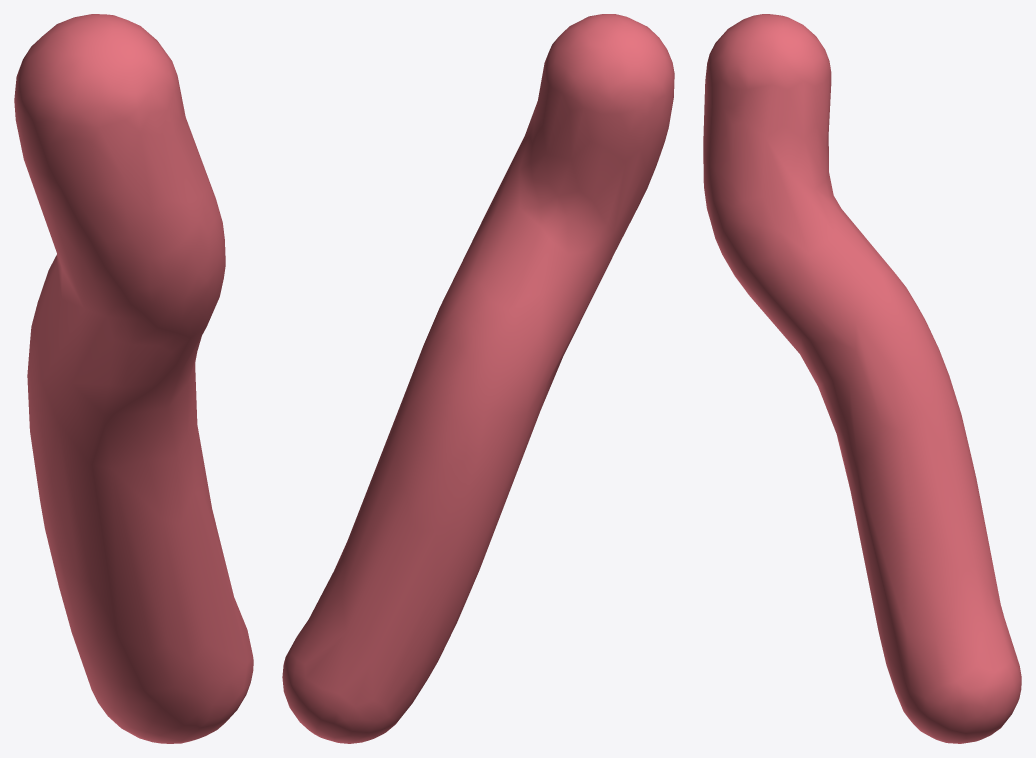
The model's file is fma50369_fj1660.glb.
The picture shows the model from 3 angles, left to right: view 1: azimuth 30°, elevation 25°; view 2: azimuth 150°, elevation 25°; view 3: azimuth 270°, elevation 25°; orthographic projection. The views are drawn at different scales.
Parts seen in each view (by area): view 1: FMA50369_FJ1660; view 2: FMA50369_FJ1660; view 3: FMA50369_FJ1660.
Boxes of the visible parts, x1,y1,x2,y2 form: FMA50369_FJ1660: (14, 14, 253, 743); FMA50369_FJ1660: (282, 14, 674, 743); FMA50369_FJ1660: (703, 14, 1021, 743).
Size of the model in its own units: 0.00591 by 0.014 by 0.00629.
